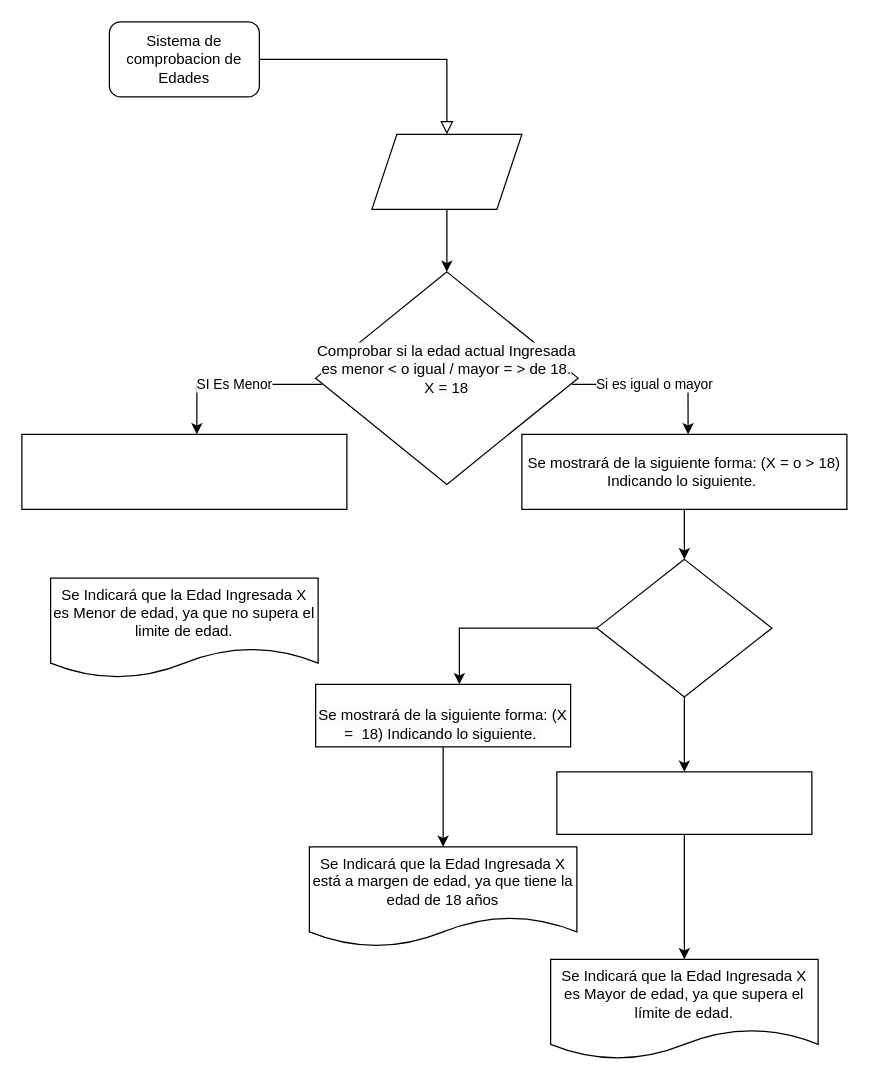
Some shapes in this 869 by 1081 pixel diagram are drawn without their labels. Each missing label, with the centre of its shape:
Comprobar si la edad actual Ingresada es igual o mayor = > de 18. X = o > 18: the point at 684,627
Ingresar la edad actual (E.A.) = (E.A.) = X: the point at 446,171
Se mostrará de la siguiente forma: (X < 18) Indicando lo siguiente.: the point at 184,471
Se mostrará de la siguiente forma: (X > 18) Indicando lo siguiente.: the point at 684,802
